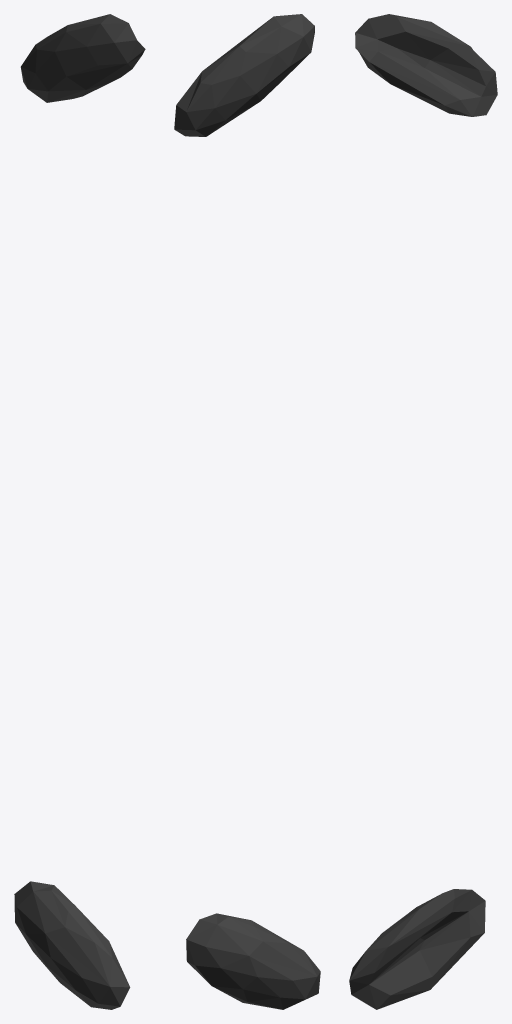
Rendered from Pelvis_iliopubic_eminence.glb.
The picture shows the model from 3 angles, left to right: view 1: azimuth 90°, elevation 25°; view 2: azimuth 150°, elevation 25°; view 3: azimuth 330°, elevation 25°; orthographic projection.
Parts seen in each view (by area): view 1: Pelvis_iliopubic_eminence; view 2: Pelvis_iliopubic_eminence; view 3: Pelvis_iliopubic_eminence.
Boxes of the visible parts, bbox=[...] form: Pelvis_iliopubic_eminence: bbox=[14, 14, 145, 1009]; Pelvis_iliopubic_eminence: bbox=[174, 14, 320, 1009]; Pelvis_iliopubic_eminence: bbox=[349, 14, 497, 1009].
Bounding box in the file's own units: 0.2562 × 2.41 × 0.2904.
Materials: 1 (1 with a texture image).
